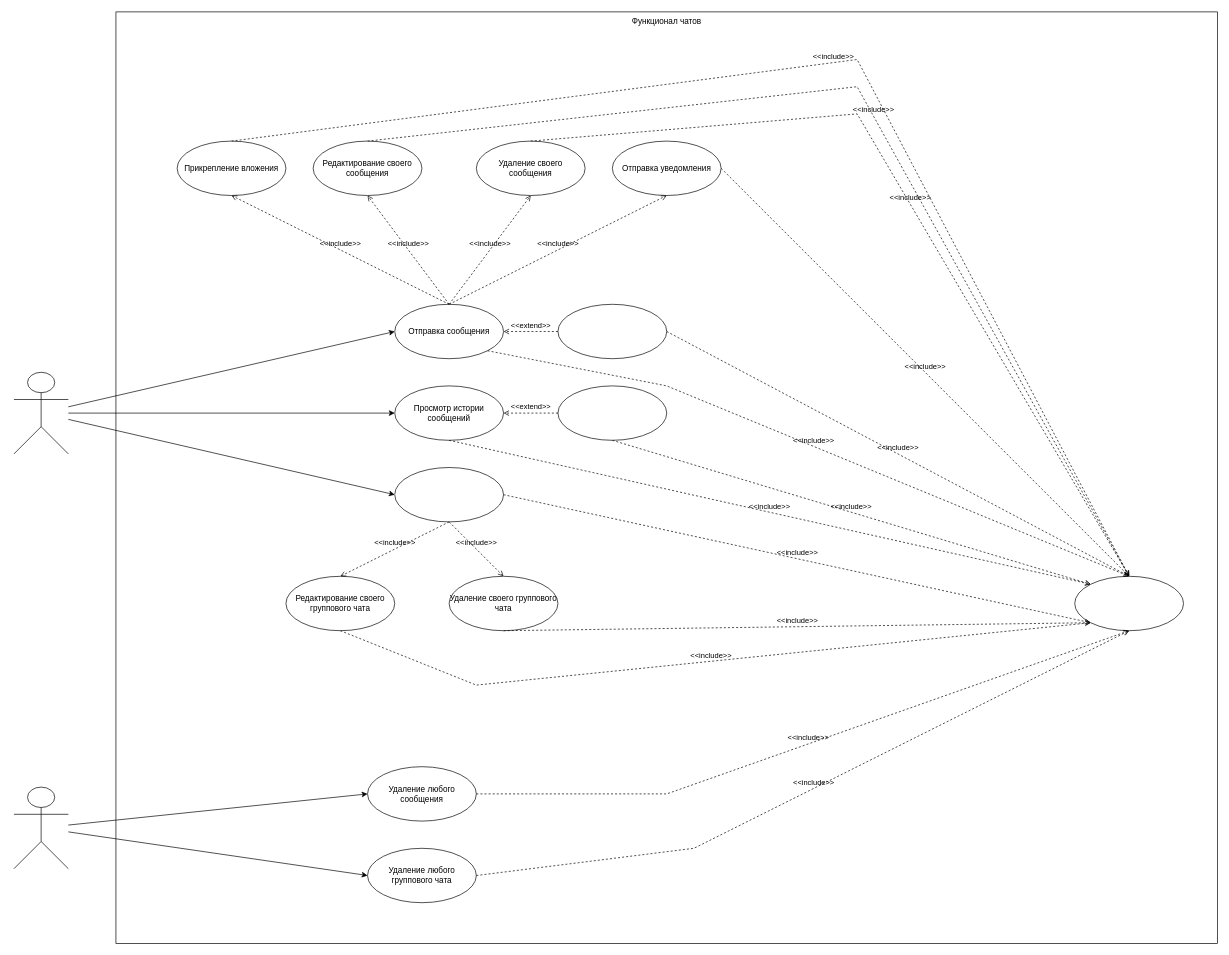
Some shapes in this 1229 by 955 pixel diagram are drawn without their labels. The box of each missing label's shape, as (x1, y1, x2, y2) in pixels:
Администратор: (13, 786, 68, 869)
Изменение статуса пользователя: (1074, 576, 1184, 631)
Отправка ответа на сообщение: (557, 304, 667, 359)
Поиск по сообщениям: (557, 385, 667, 440)
Пользователь: (13, 372, 68, 454)
Создание группового чата: (394, 467, 504, 522)
